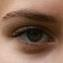eye: (26, 29, 43, 43)
